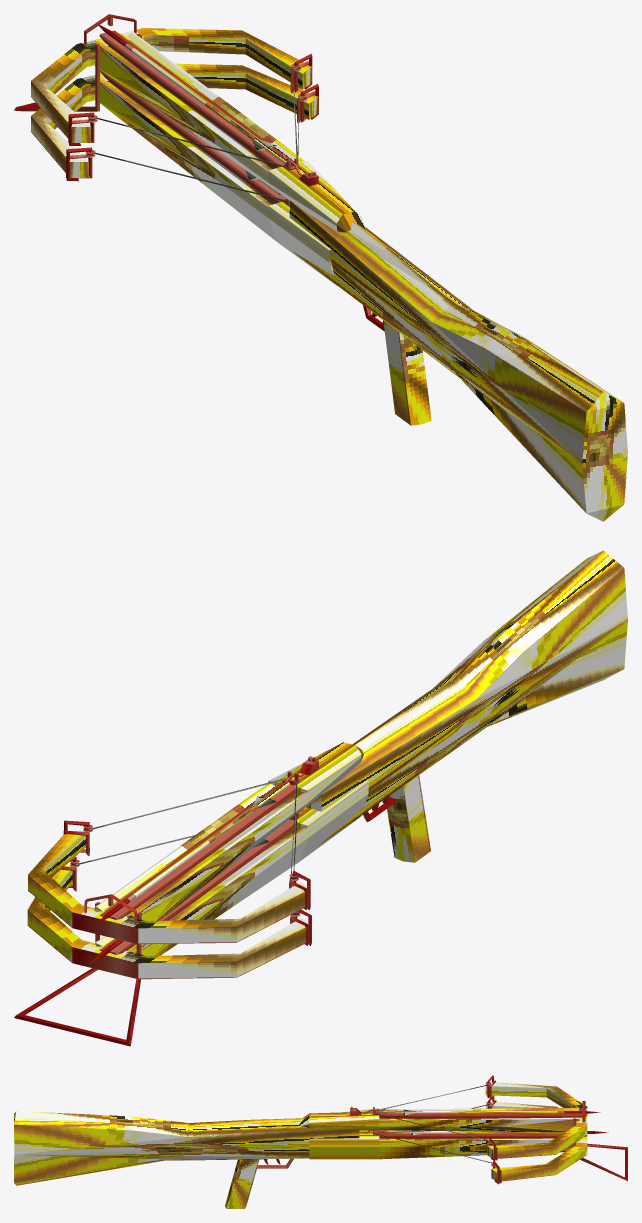
Rendered from double_crossbow_arming_lower_1.obj.
3 renders of one model, top to bottom at view 1: azimuth 30°, elevation 25°; view 2: azimuth 150°, elevation 25°; view 3: azimuth 270°, elevation 25°, orthographic. The views are drawn at different scales.
Visible parts, largest first — view 1: Torus.009_Torus.008, Torus.000, Torus.001_Torus.007, Torus.002_Torus.009; view 2: Torus.009_Torus.008, Torus.000, Torus.001_Torus.007, Torus.002_Torus.009; view 3: Torus.009_Torus.008, Torus.000, Torus.001_Torus.007, Torus.002_Torus.009, Torus.003_Torus.010.
Part boxes in pixels (x1=…): Torus.009_Torus.008: x1=282, y1=153, x2=627, y2=521; Torus.000: x1=14, y1=14, x2=365, y2=286; Torus.001_Torus.007: x1=31, y1=28, x2=318, y2=201; Torus.002_Torus.009: x1=98, y1=25, x2=287, y2=164; Torus.009_Torus.008: x1=282, y1=550, x2=627, y2=862; Torus.000: x1=14, y1=742, x2=368, y2=1046; Torus.001_Torus.007: x1=27, y1=778, x2=311, y2=979; Torus.002_Torus.009: x1=97, y1=782, x2=289, y2=923; Torus.009_Torus.008: x1=14, y1=1106, x2=385, y2=1208; Torus.000: x1=299, y1=1101, x2=627, y2=1180; Torus.001_Torus.007: x1=375, y1=1075, x2=587, y2=1184; Torus.002_Torus.009: x1=380, y1=1109, x2=600, y2=1115; Torus.003_Torus.010: x1=388, y1=1130, x2=608, y2=1135.
Size of the model in its own units: 2.15 by 1.45 by 7.77.
